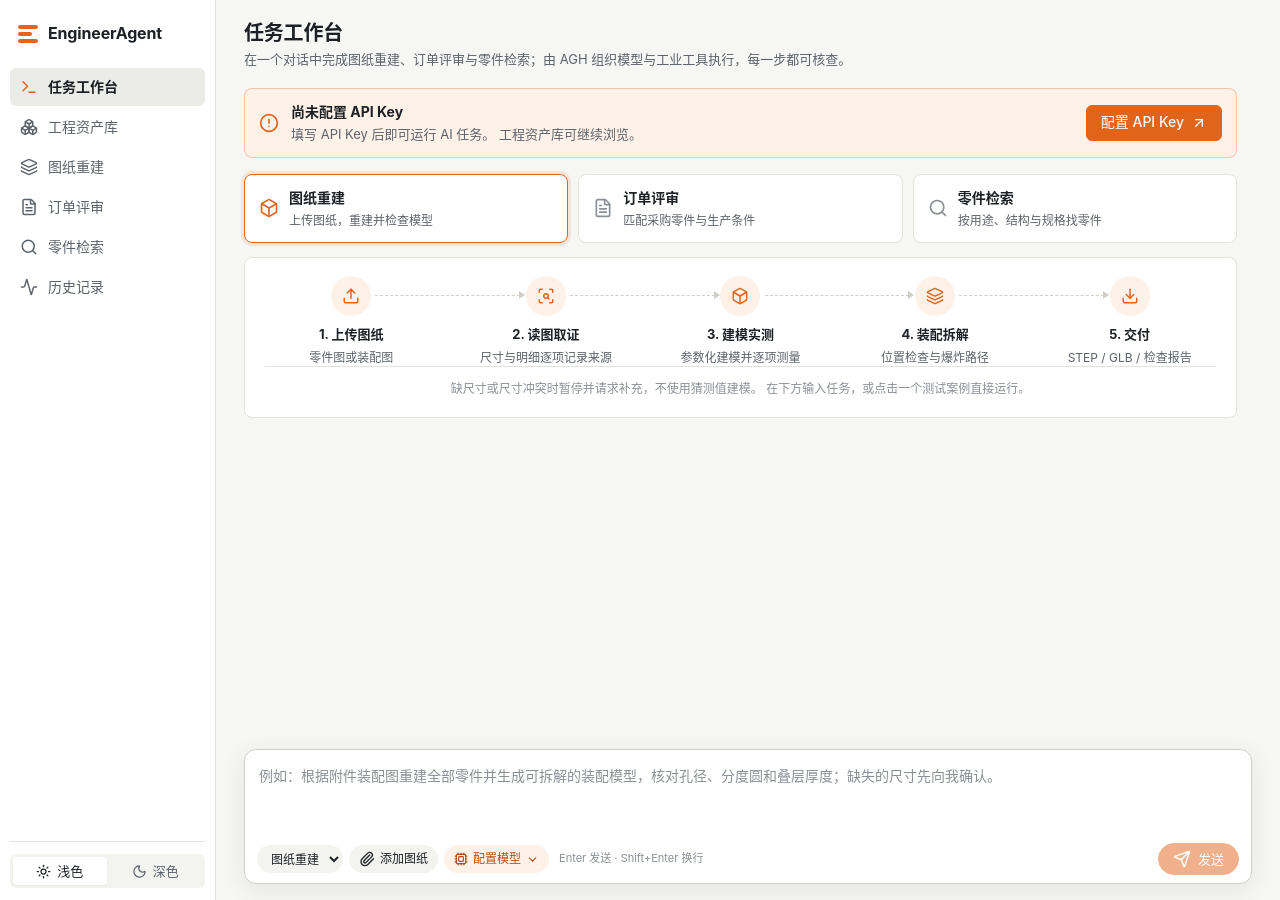
Test: shows a prominent missing-key notice on workspace and catalog, with a direct settings action
Expected: the message named "模型配置提醒" shows "尚未配置 API Key", x1=291 y1=103 x2=403 y2=120
Expected: the button with aria-label "开始任务" is disabled, x1=1158 y1=843 x2=1239 y2=875
Click the button "工程资产库" at (108, 127), box x1=10 y1=108 x2=205 y2=146
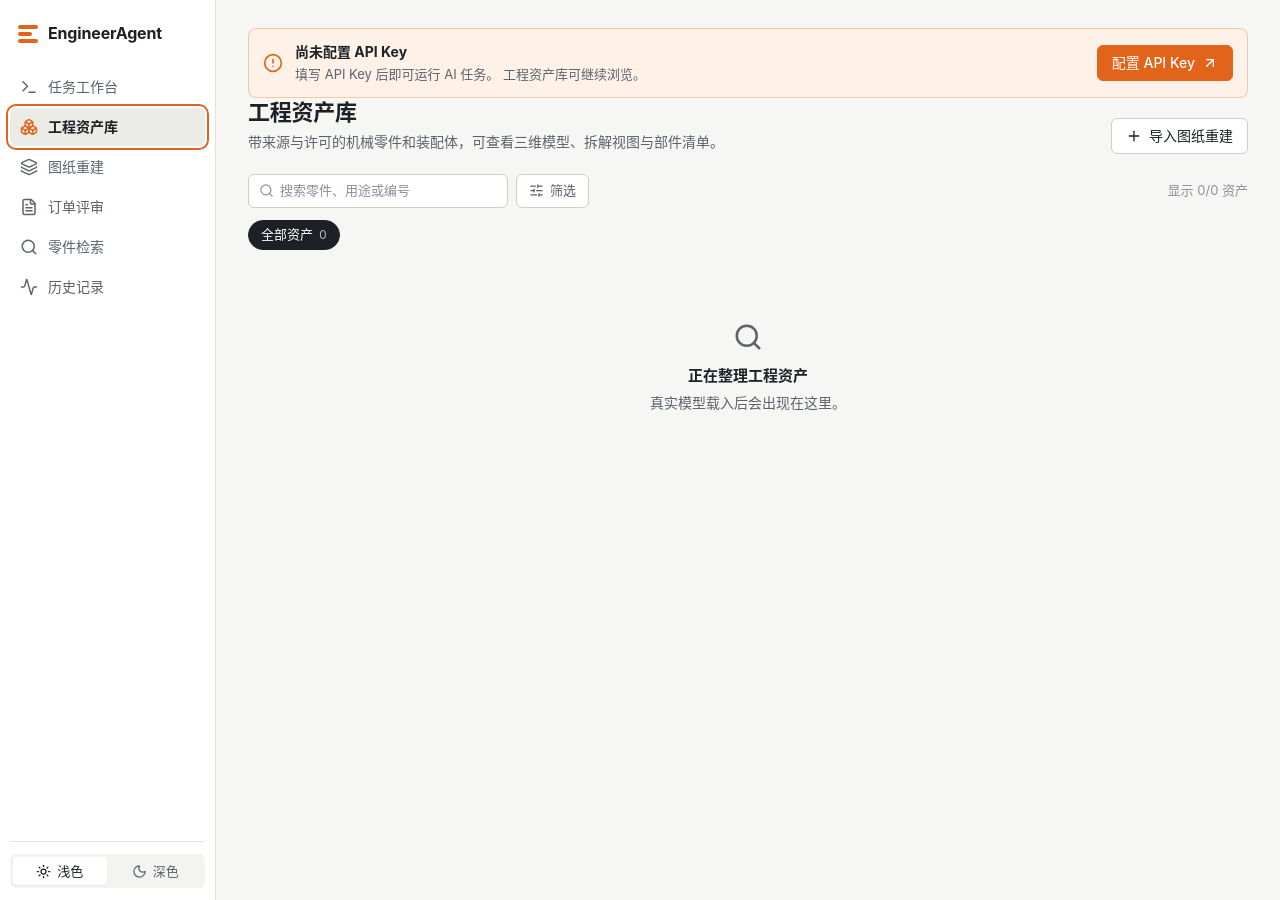
Expected: the message named "模型配置提醒" shows "尚未配置 API Key", x1=295 y1=43 x2=407 y2=60
Click the button "配置 API Key" at (1165, 63), box x1=1097 y1=45 x2=1233 y2=81
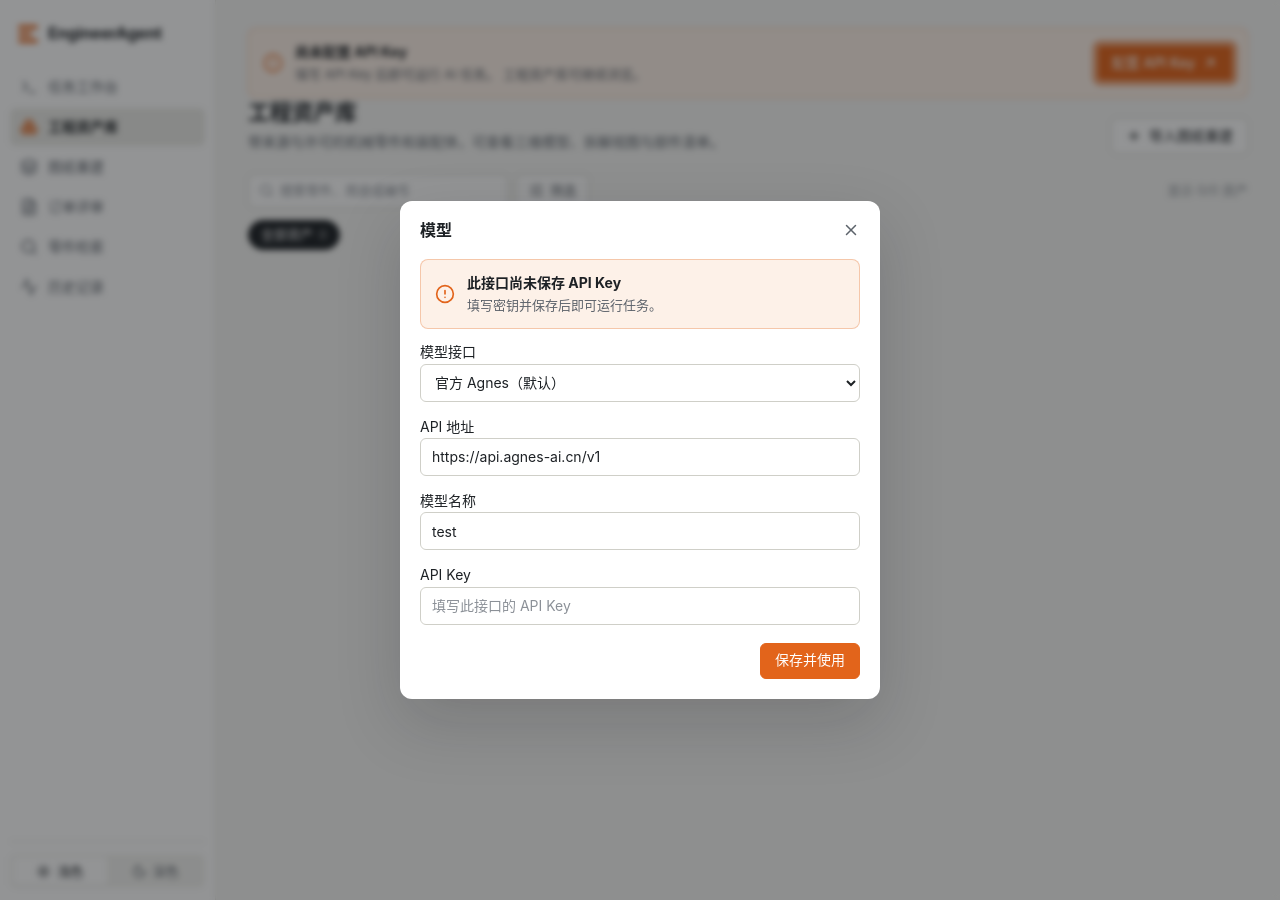
Expected: the field labelled "模型名称" is shown, x1=420 y1=512 x2=860 y2=550
Expected: the message named "API Key 配置提醒" shows "此接口尚未保存 API Key", x1=467 y1=274 x2=621 y2=291
